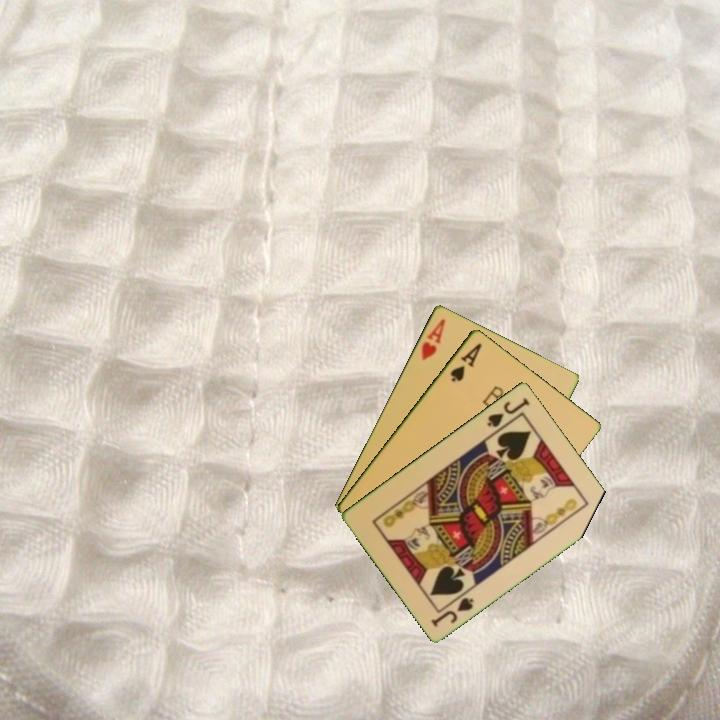Ah: (418, 315, 448, 363)
As: (447, 339, 485, 385)
Js: (483, 393, 533, 430), (427, 593, 477, 629)
